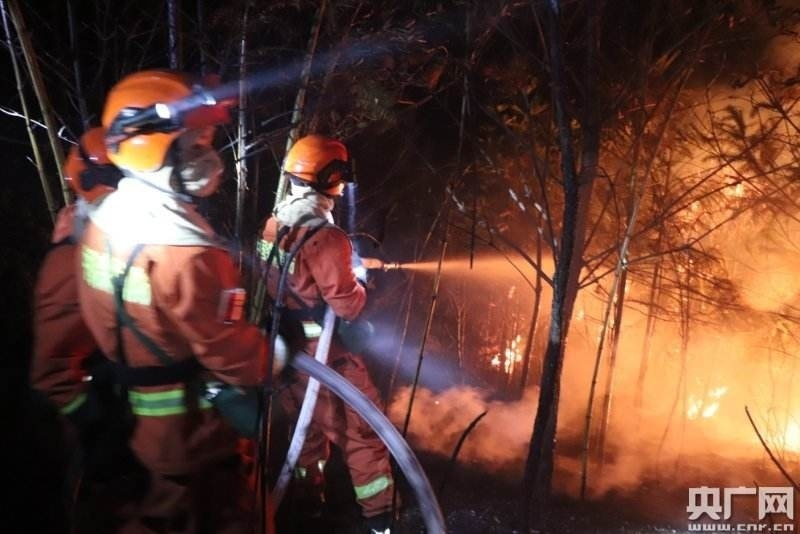fire: (681, 376, 732, 424)
